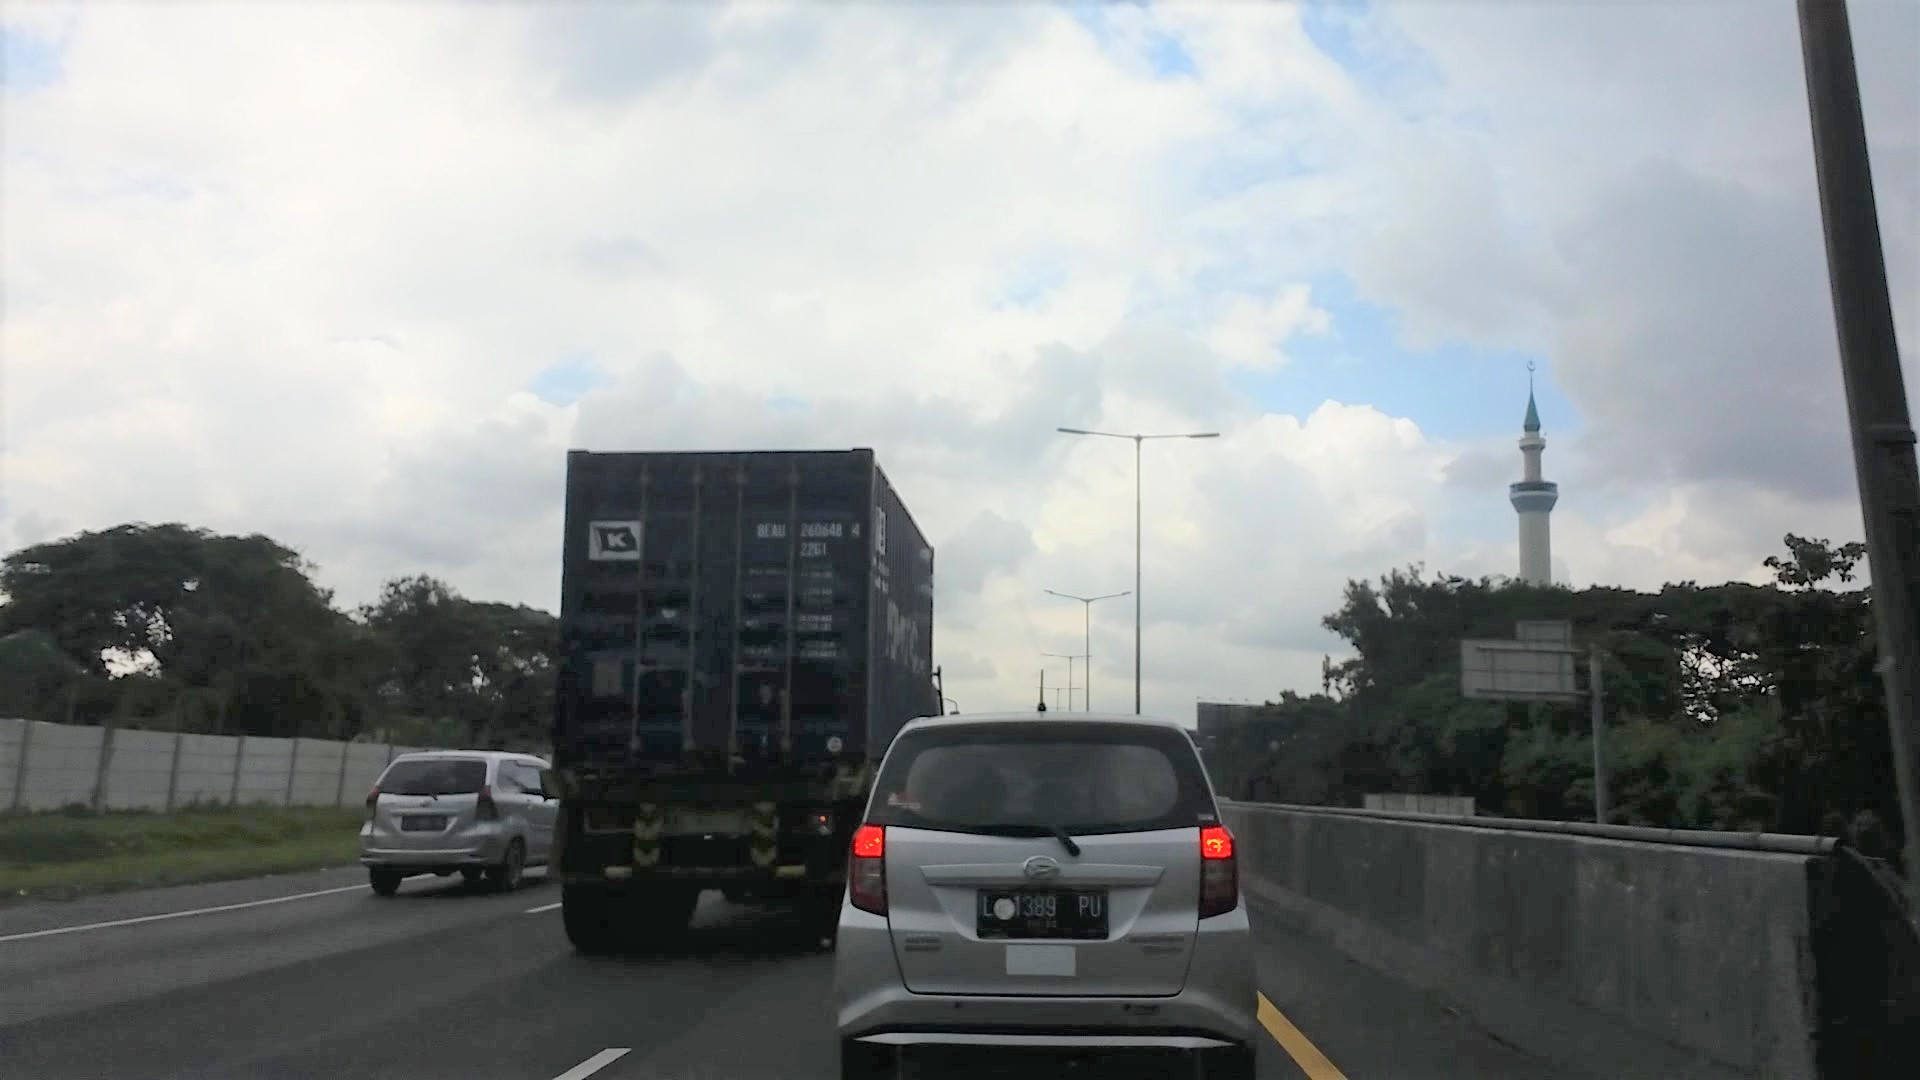plate_positive: (975, 889, 1109, 938)
